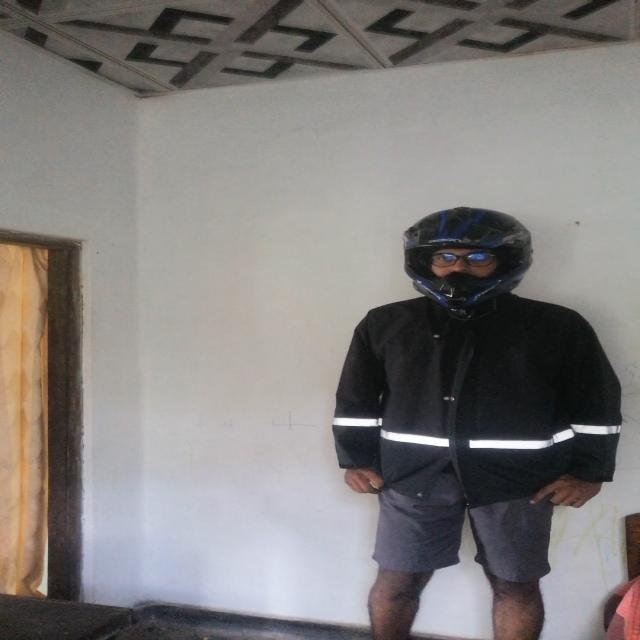Helmet_Wearer: (381, 201, 549, 320)
Jacket_Wearer: (324, 293, 622, 488)
